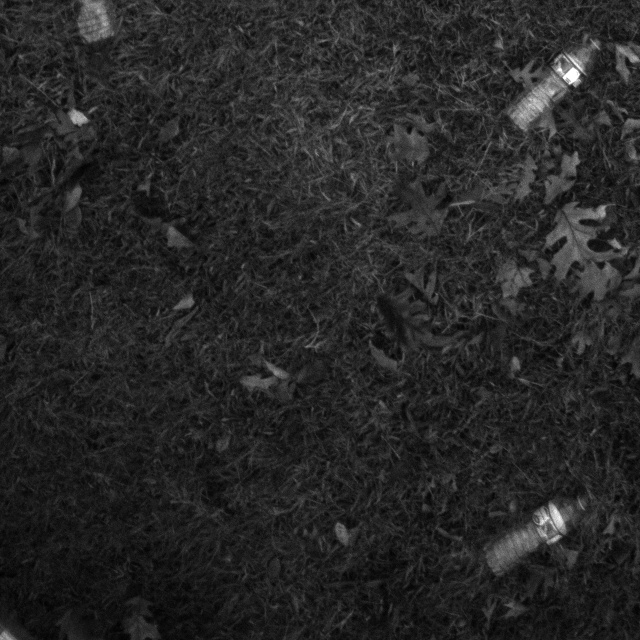bottle: (495, 25, 614, 141), (474, 487, 590, 585), (52, 0, 130, 58)
